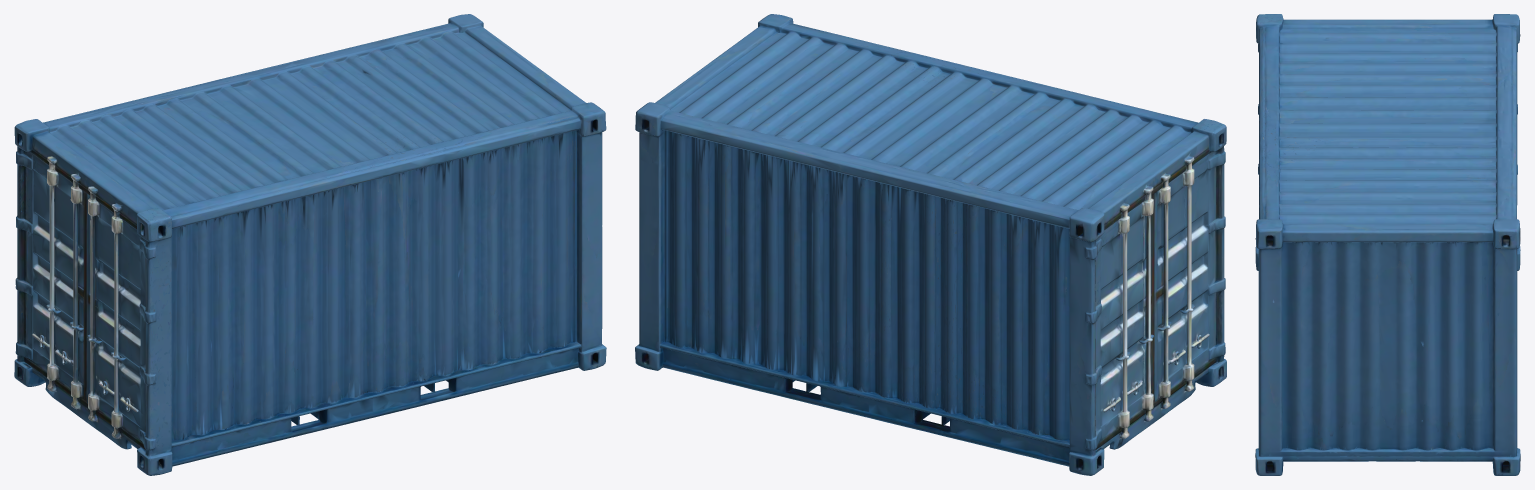
The model's file is shipping_container_d50ffbf4_v3.glb.
The picture shows the model from 3 angles, left to right: view 1: azimuth 30°, elevation 25°; view 2: azimuth 150°, elevation 25°; view 3: azimuth 270°, elevation 25°; orthographic projection. The views are drawn at different scales.
Visible parts, largest first — view 1: material; view 2: material; view 3: material.
Boxes of the visible parts, box(x1,y1,x2,y2) form: material: box(14, 14, 606, 475); material: box(635, 14, 1226, 475); material: box(1255, 14, 1520, 475).
Bounding box in the file's own units: 0.9733 × 0.5177 × 0.5014.
Materials: 1 (1 with a texture image).
